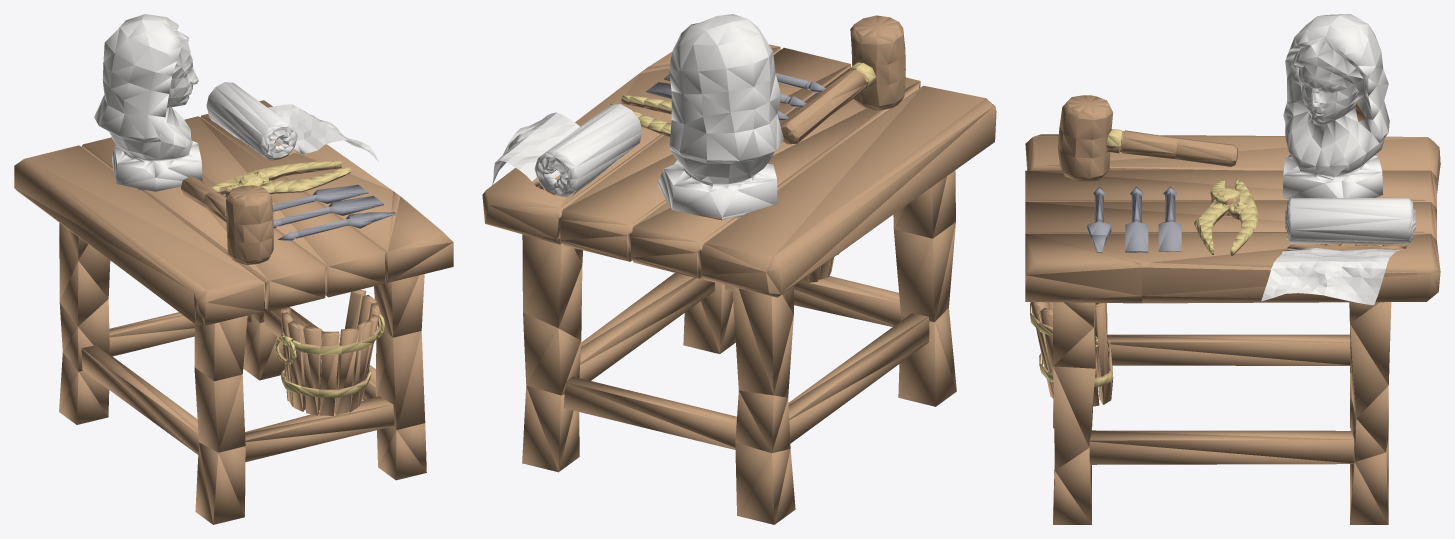
File: workbench.glb
3 views of the same model, side by side, from view 1: azimuth 30°, elevation 25°; view 2: azimuth 150°, elevation 25°; view 3: azimuth 270°, elevation 25° (orthographic). The views are drawn at different scales.
Visible parts, largest first — view 1: tripo_node_f532b379-6a91-4c8d-bf8f-6598771ae51f; view 2: tripo_node_f532b379-6a91-4c8d-bf8f-6598771ae51f; view 3: tripo_node_f532b379-6a91-4c8d-bf8f-6598771ae51f.
Boxes of the visible parts, x1=… form: tripo_node_f532b379-6a91-4c8d-bf8f-6598771ae51f: x1=14, y1=14, x2=453, y2=524; tripo_node_f532b379-6a91-4c8d-bf8f-6598771ae51f: x1=482, y1=14, x2=996, y2=524; tripo_node_f532b379-6a91-4c8d-bf8f-6598771ae51f: x1=1025, y1=14, x2=1440, y2=524.
Bounding box in the file's own units: 0.7637 × 0.998 × 0.877.
